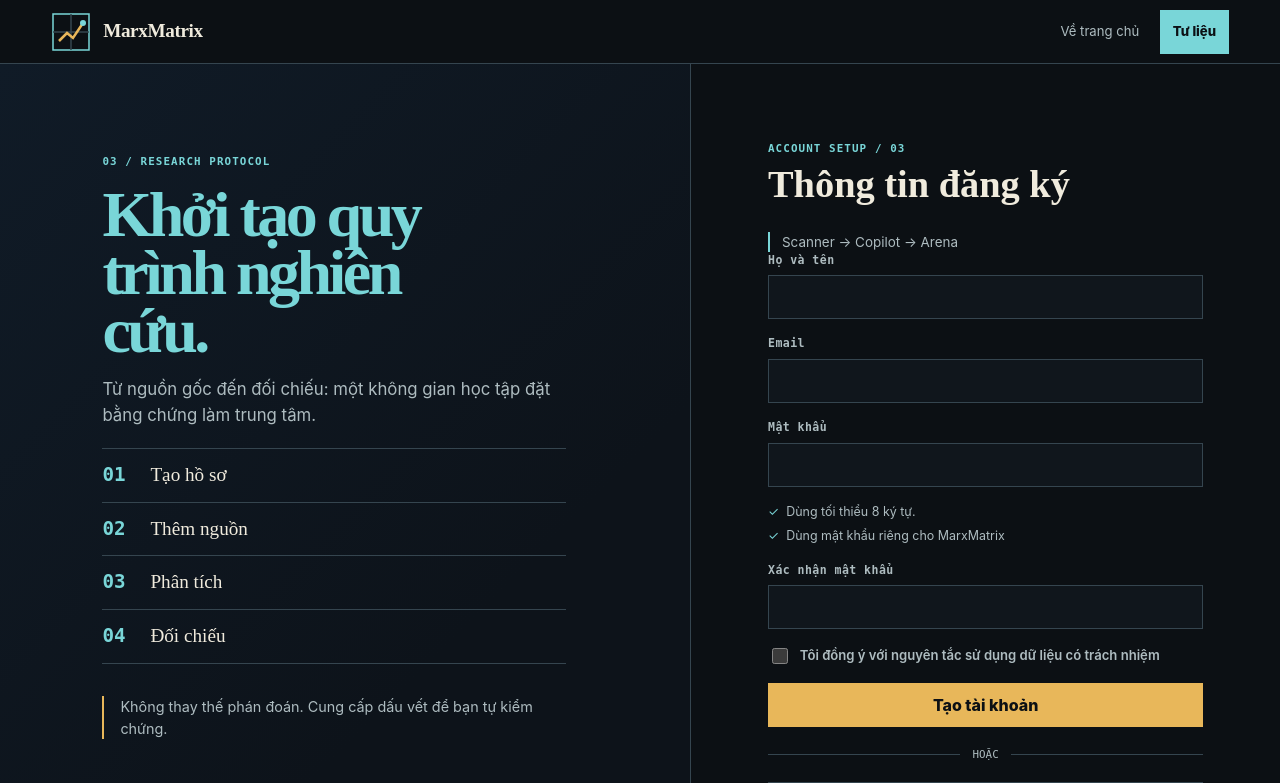
Test: auth pages › marks the registration form busy while the request is pending
In the field labelled "Họ và tên": (986, 297) [768,275,1203,319], type "Student"
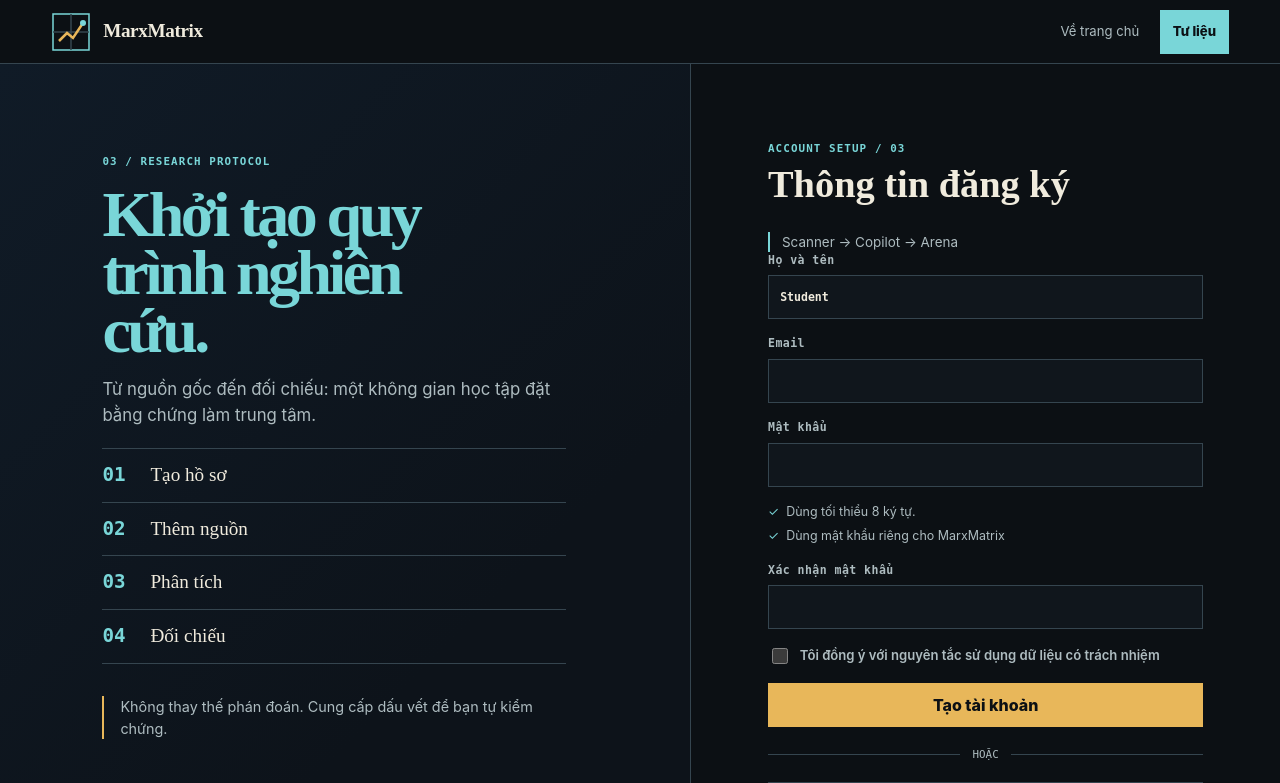
In the field labelled "Email": (986, 381) [768,359,1203,403], type "student@example.test"
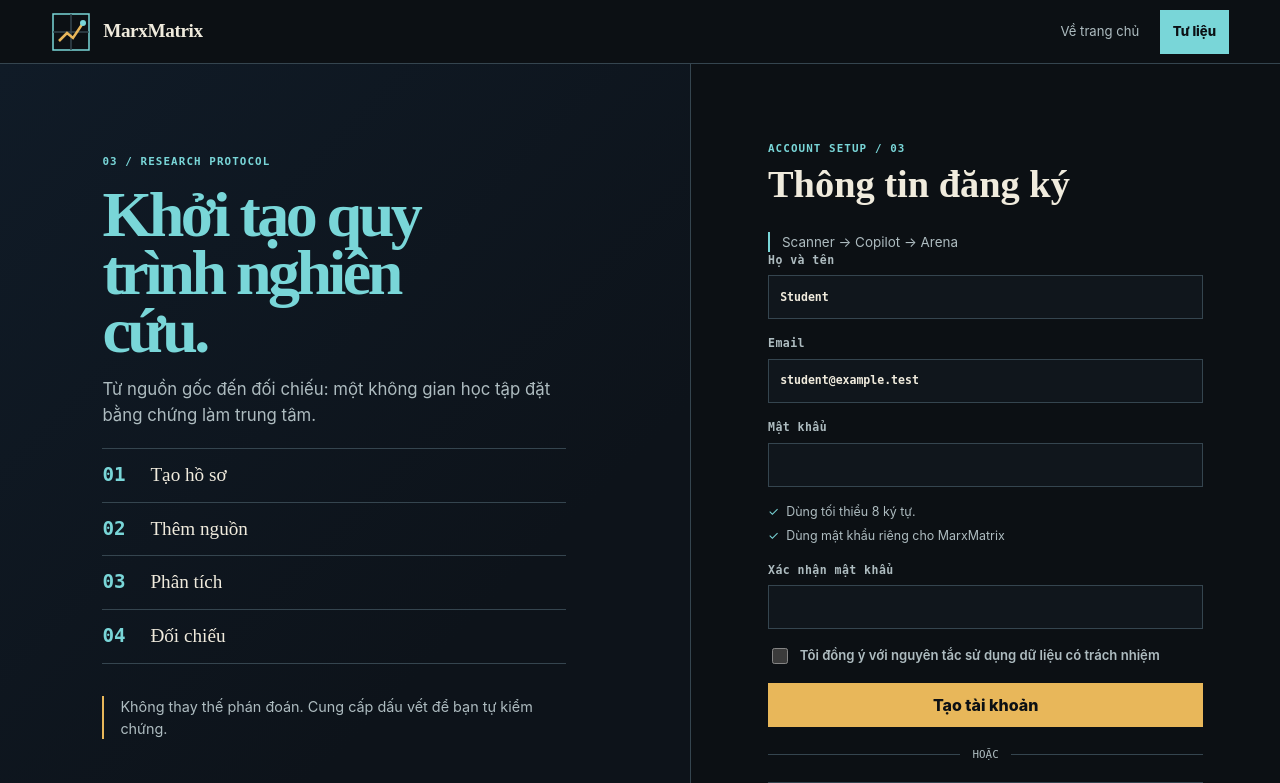
In the password field labelled "Mật khẩu": (986, 465) [768,443,1203,487], type "correct horse battery staple"
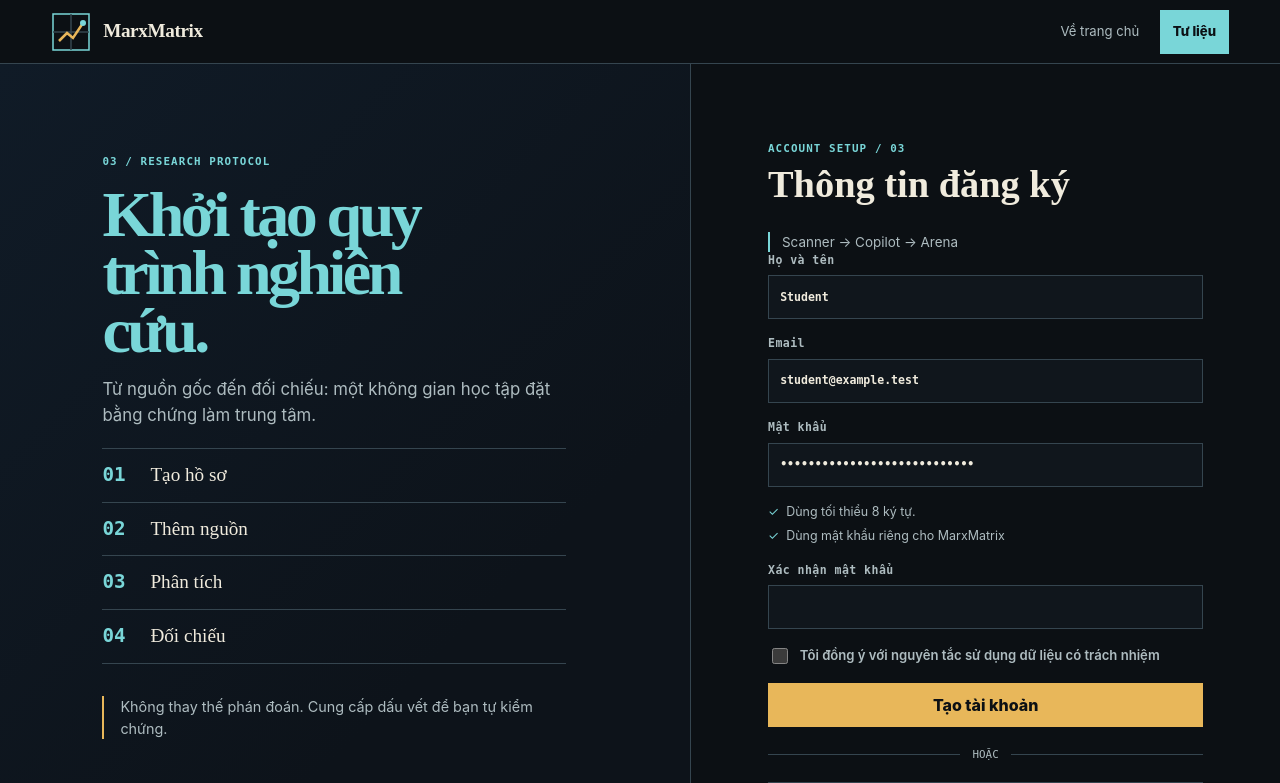
Click the button "Tạo tài khoản": click(986, 705) [768,683,1203,727]
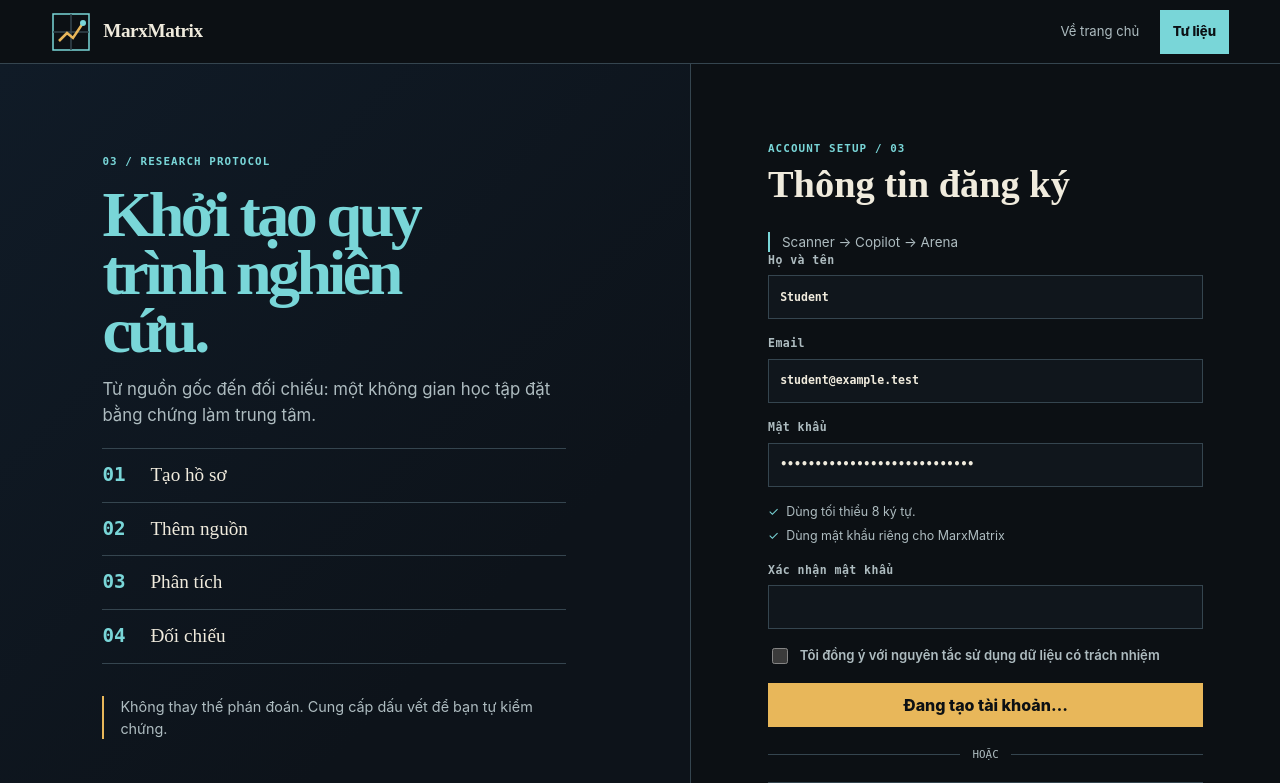
Result: the button "Đang tạo tài khoản…" is disabled at [768,683,1203,727]
